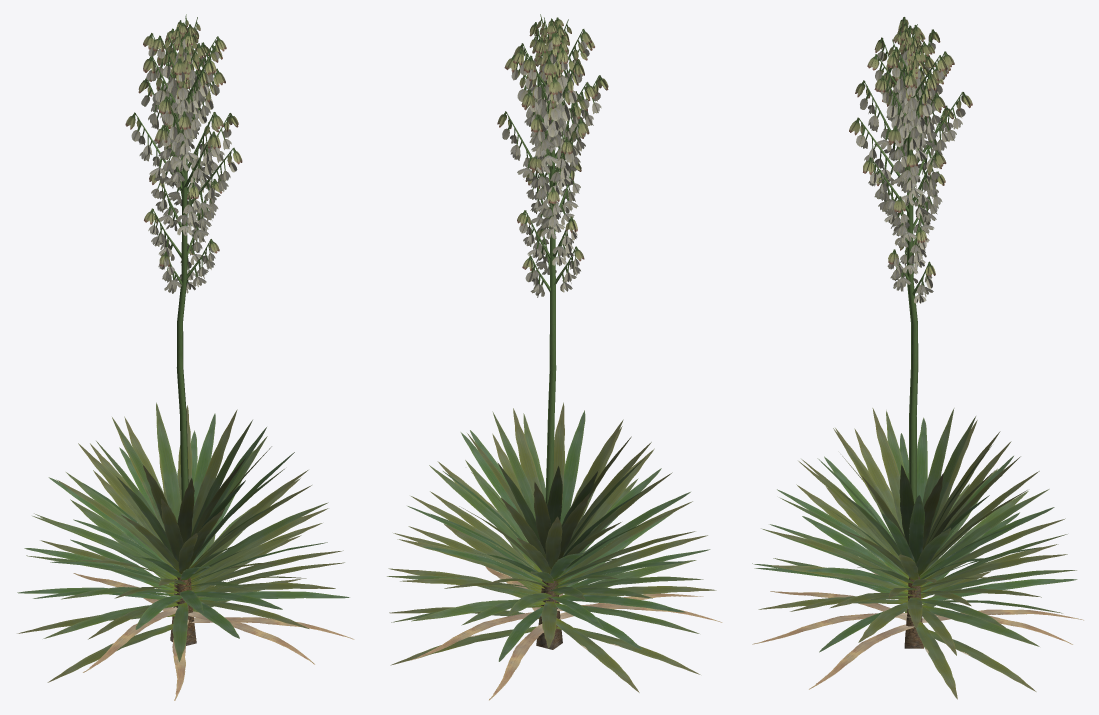
The model's file is YuccaGloriosa.glb.
3 renders of one model, left to right at view 1: azimuth 30°, elevation 25°; view 2: azimuth 150°, elevation 25°; view 3: azimuth 270°, elevation 25°, orthographic.
Visible parts, largest first — view 1: Sea_Islands_Yucca__Realistic_LOD3; view 2: Sea_Islands_Yucca__Realistic_LOD3; view 3: Sea_Islands_Yucca__Realistic_LOD3.
Part boxes in pixels (left/top/right/bottom): Sea_Islands_Yucca__Realistic_LOD3: left=17, top=14, right=354, bottom=700; Sea_Islands_Yucca__Realistic_LOD3: left=387, top=14, right=722, bottom=700; Sea_Islands_Yucca__Realistic_LOD3: left=752, top=17, right=1083, bottom=699.
Bounding box in the file's own units: 1.19 × 2.47 × 1.2.
1 material, 1 textured.
